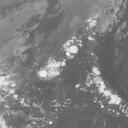cyclone: (39, 50, 99, 102)
